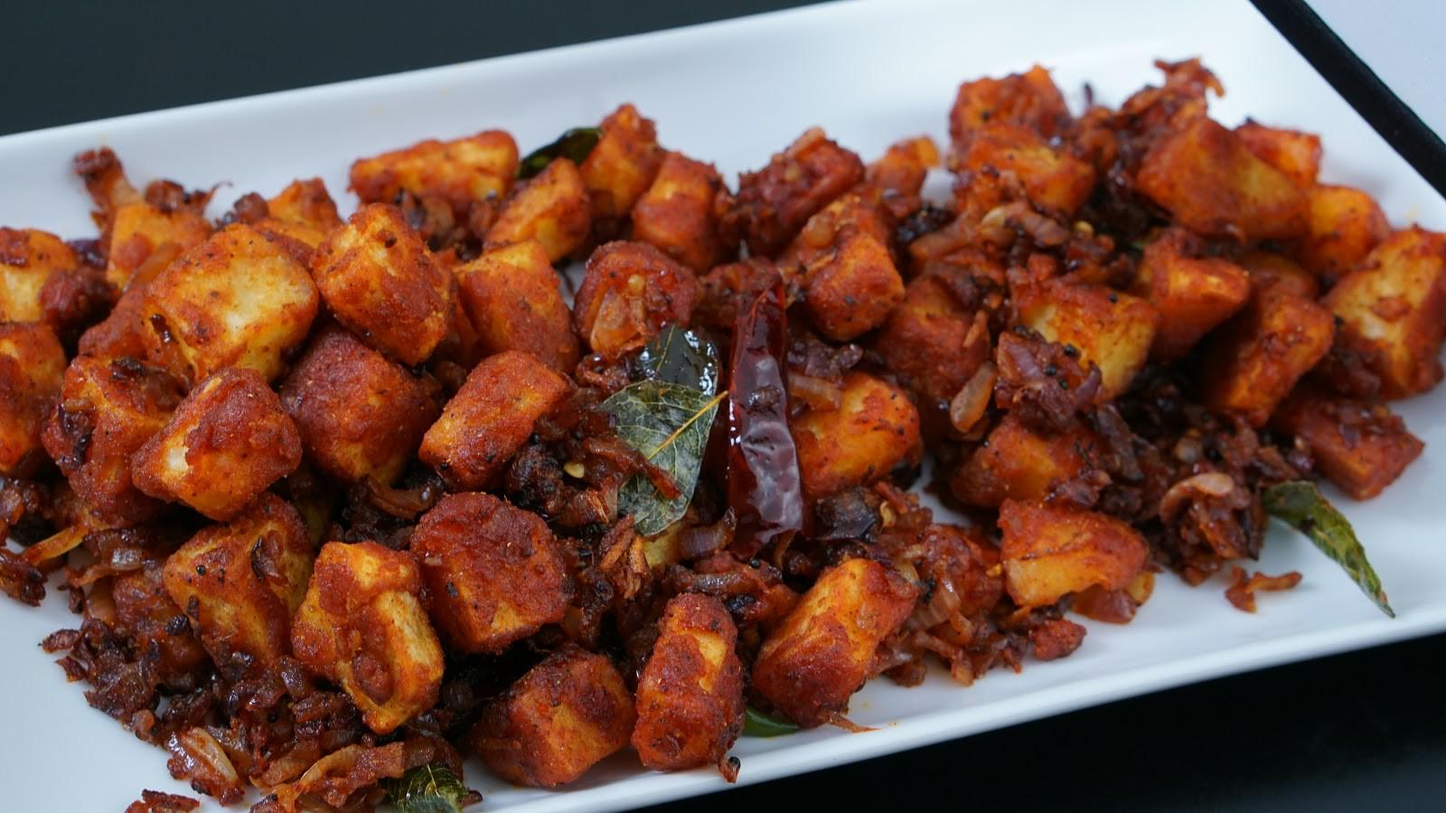AlooMasala: (0, 58, 1446, 813)
